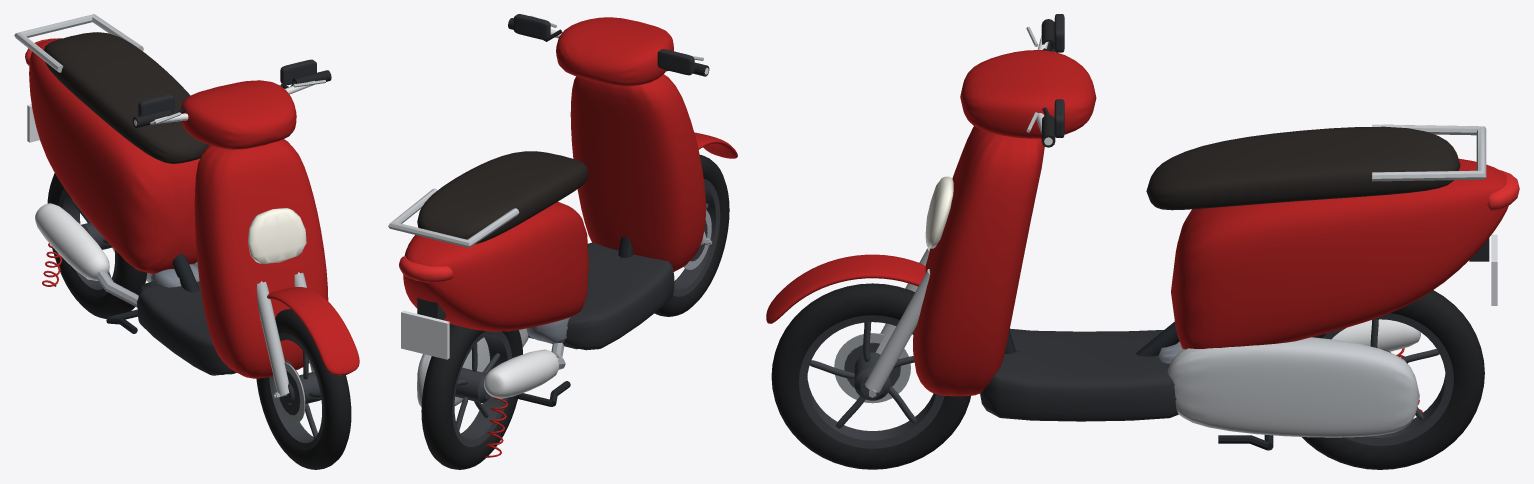
File: honda_vision_110.glb
3 renders of one model, left to right at view 1: azimuth 30°, elevation 25°; view 2: azimuth 150°, elevation 25°; view 3: azimuth 270°, elevation 25°, orthographic. The views are drawn at different scales.
Parts seen in each view (by area): view 1: honda_vision_110, fork, seat, front_wheel, engine, rear_wheel, stand; view 2: honda_vision_110, seat, rear_wheel, fork, engine, front_wheel, stand; view 3: honda_vision_110, engine, seat, front_wheel, fork, rear_wheel.
Part boxes in pixels (x1,y1,x2,y2): honda_vision_110: (14, 14, 328, 378); fork: (132, 59, 359, 399); seat: (44, 32, 209, 163); front_wheel: (256, 309, 351, 469); engine: (35, 203, 199, 307); rear_wheel: (47, 173, 146, 318); stand: (106, 309, 137, 333); honda_vision_110: (388, 74, 705, 359); seat: (417, 151, 588, 244); rear_wheel: (421, 324, 522, 469); fork: (508, 14, 737, 245); engine: (417, 317, 570, 457); front_wheel: (654, 155, 729, 316); stand: (518, 381, 570, 406); honda_vision_110: (913, 124, 1519, 421); engine: (1158, 319, 1422, 437); seat: (1146, 126, 1460, 210); front_wheel: (771, 283, 970, 469); fork: (766, 14, 1096, 397); rear_wheel: (1302, 290, 1484, 469).
Size of the model in its own units: 0.683 by 1.1 by 1.86.
